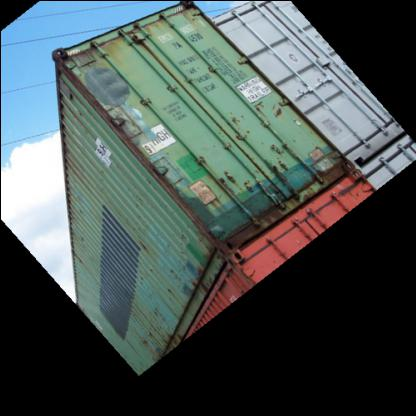Damage: (113, 138, 236, 254), (224, 122, 352, 228), (43, 40, 130, 136)
